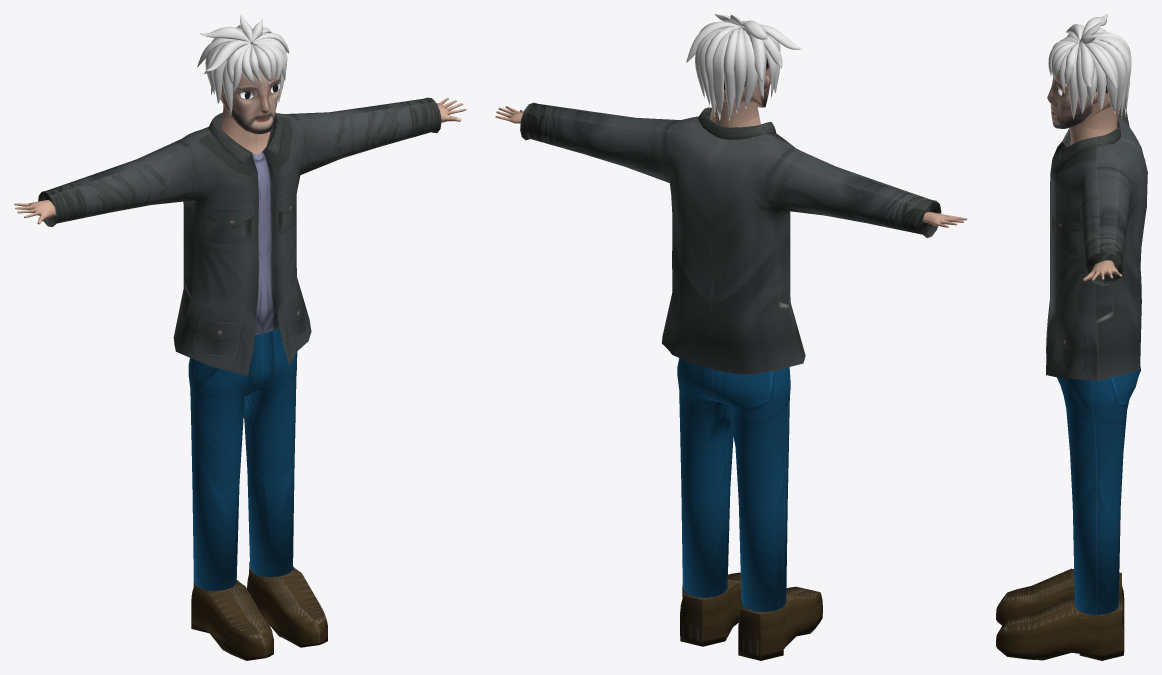
Rendered from 男主初建模.fbx.
3 renders of one model, left to right at view 1: azimuth 30°, elevation 25°; view 2: azimuth 150°, elevation 25°; view 3: azimuth 270°, elevation 25°, orthographic. The views are drawn at different scales.
Parts seen in each view (by area): view 1: body, hair23, hair18, head; view 2: body, hair18, hair23; view 3: body, hair18, head, hair23.
Boxes of the visible parts, x1,y1,x2,y2 form: body: (14,97,466,660); hair23: (200,14,283,85); hair18: (197,25,289,114); head: (214,43,280,134); body: (495,101,967,660); hair18: (686,21,782,120); hair23: (712,14,802,120); body: (996,102,1147,660); hair18: (1059,27,1131,118); head: (1047,42,1117,128); hair23: (1048,14,1131,116).
Size of the model in its own units: 686 by 888 by 198.
